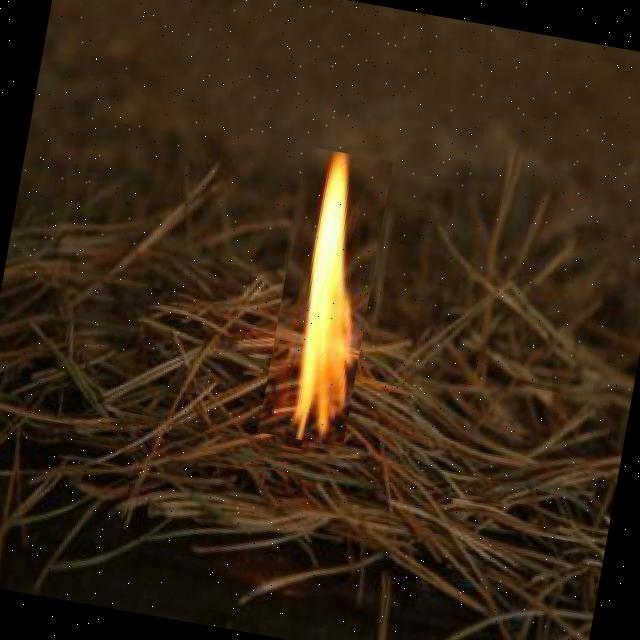fire: (258, 146, 392, 447)
